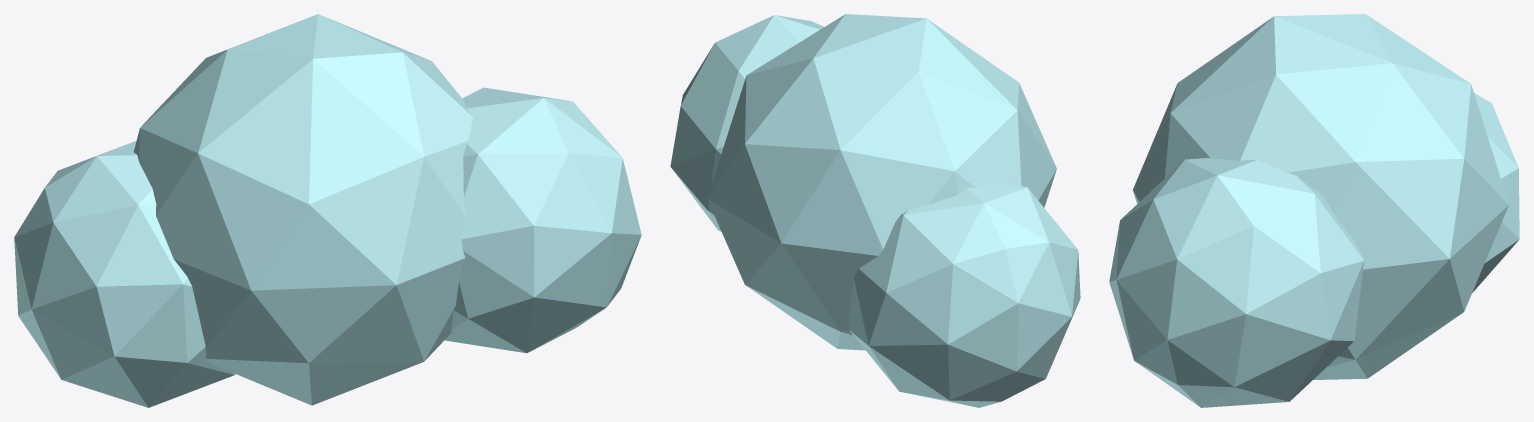
The model's file is cloud4_00008.fbx.
3 renders of one model, left to right at view 1: azimuth 30°, elevation 25°; view 2: azimuth 150°, elevation 25°; view 3: azimuth 270°, elevation 25°, orthographic. The views are drawn at different scales.
Visible parts, largest first — view 1: cloud4; view 2: cloud4; view 3: cloud4.
Part boxes in pixels (x1,y1,x2,y2): cloud4: (14,14,641,407); cloud4: (670,14,1080,407); cloud4: (1109,14,1519,407).
Size of the model in its own units: 411 by 271 by 295.
